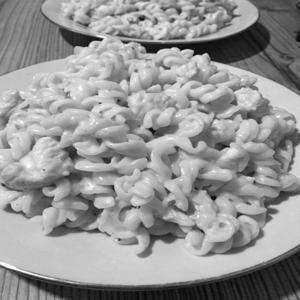pasta: (11, 38, 286, 286)
